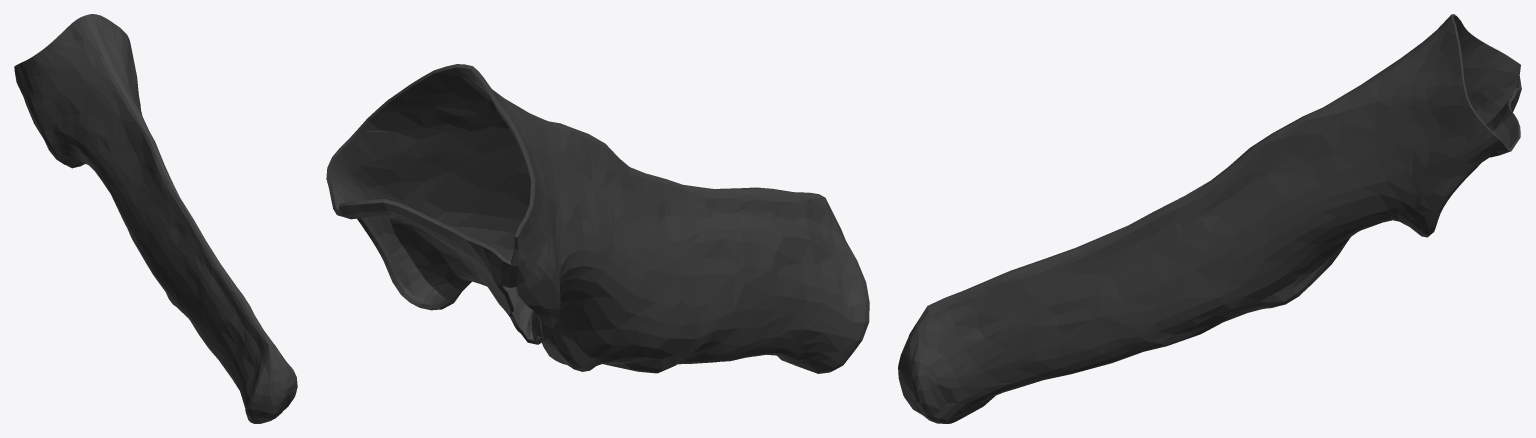
File: t6_spinous_process.glb
3 renders of one model, left to right at view 1: azimuth 30°, elevation 25°; view 2: azimuth 150°, elevation 25°; view 3: azimuth 270°, elevation 25°, orthographic. The views are drawn at different scales.
Visible parts, largest first — view 1: t6_spinous_process; view 2: t6_spinous_process; view 3: t6_spinous_process.
Part boxes in pixels (left/top/right/bottom): t6_spinous_process: left=14, top=14, right=297, bottom=423; t6_spinous_process: left=326, top=64, right=869, bottom=373; t6_spinous_process: left=898, top=14, right=1521, bottom=423.
Bounding box in the file's own units: 14.03 × 35.74 × 49.69.
Materials: 1 (1 with a texture image).
